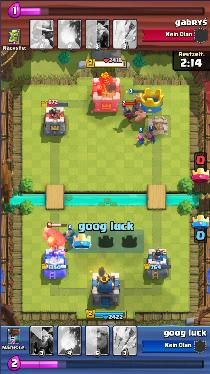ally_archer: (147, 132, 156, 144), (137, 134, 146, 145)
ally_knight: (64, 227, 78, 246)
enemy_giant: (41, 226, 66, 256)
enemy_knight: (119, 104, 137, 123)
